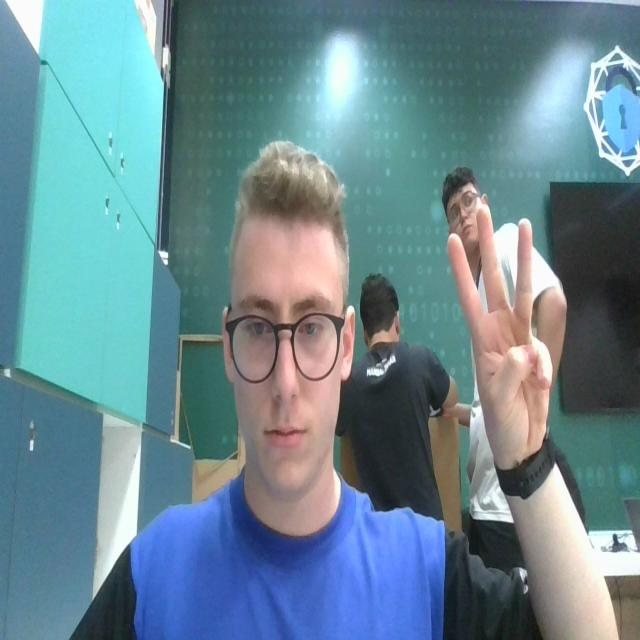W: (443, 201, 556, 460)
